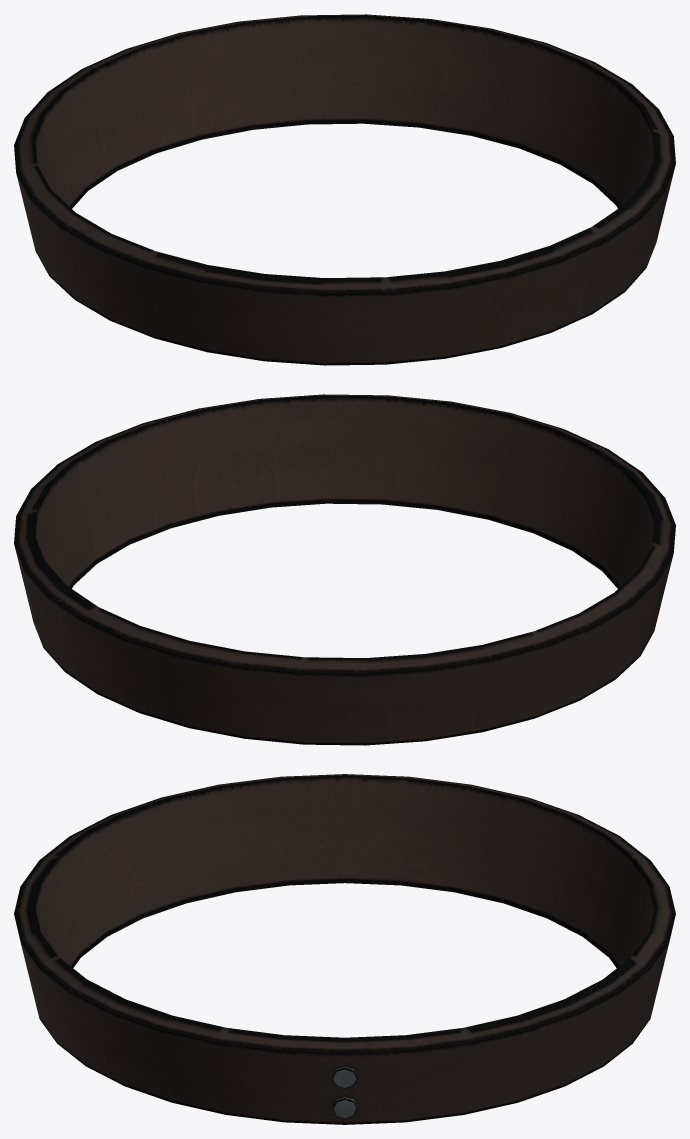
File: metal_rim_bottom_gib.fbx
3 renders of one model, top to bottom at view 1: azimuth 30°, elevation 25°; view 2: azimuth 150°, elevation 25°; view 3: azimuth 270°, elevation 25°, orthographic.
Visible parts, largest first — view 1: metal_rim_bottom_gib; view 2: metal_rim_bottom_gib; view 3: metal_rim_bottom_gib.
Part boxes in pixels (bbox=[...]): metal_rim_bottom_gib: bbox=[14, 14, 675, 365]; metal_rim_bottom_gib: bbox=[14, 394, 675, 745]; metal_rim_bottom_gib: bbox=[14, 774, 675, 1124].
Bounding box in the file's own units: 236 × 38.31 × 236.
